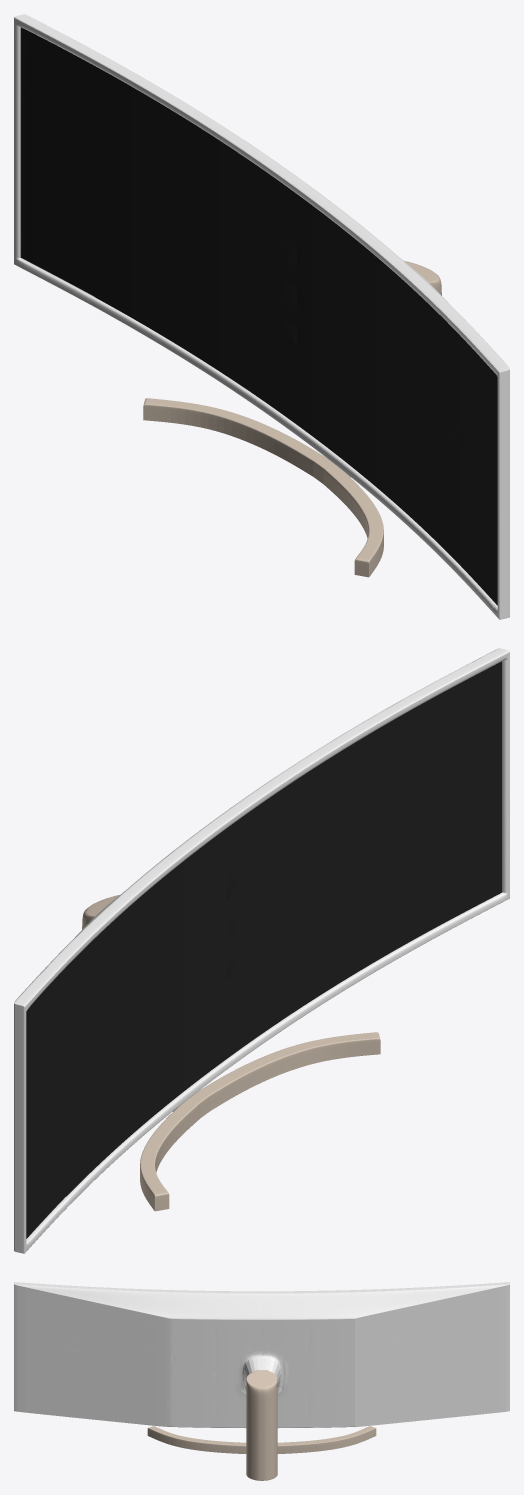
File: 32_9_monitor_curved_43.4in-transformed.glb
3 renders of one model, top to bottom at view 1: azimuth 30°, elevation 25°; view 2: azimuth 150°, elevation 25°; view 3: azimuth 270°, elevation 25°, orthographic. The views are drawn at different scales.
Parts seen in each view (by area): view 1: Plane; view 2: Plane; view 3: Plane.
Part boxes in pixels (x1=…): Plane: x1=14, y1=14, x2=509, y2=619; Plane: x1=14, y1=648, x2=509, y2=1253; Plane: x1=14, y1=1282, x2=509, y2=1480.
Bounding box in the file's own units: 9.56 × 14.54 × 42.42.
